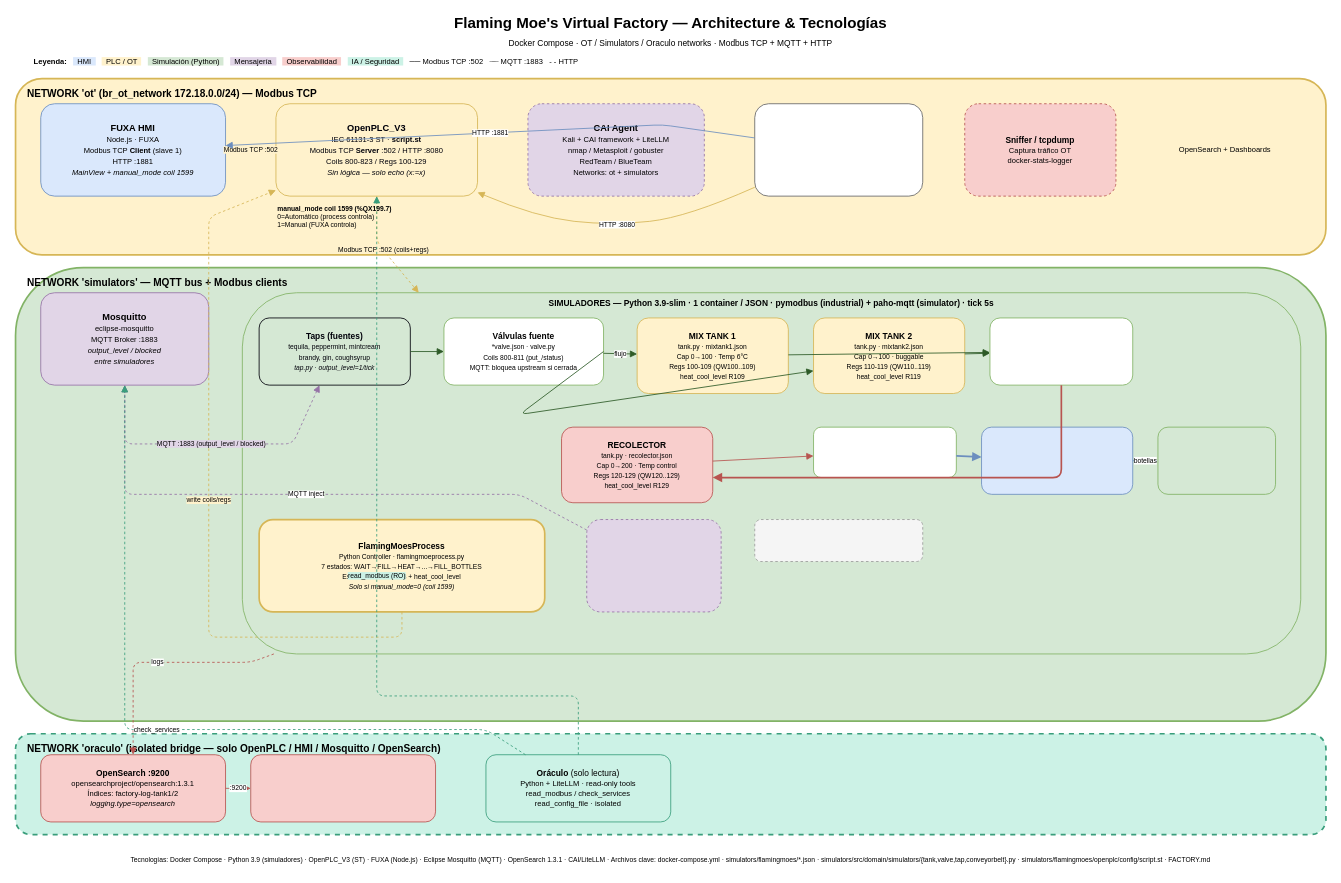
Image size: 1341x883. Some labels were removed from this diagram. Each missing label, with the centre of its shape:
"buggable-cli Python · MQTT Inyecta anomalías (anomalies.json)" goes at [653,565].
"Conveyor Belt 1 conveyorbelt.py · 7 slots Coil 818 belt1_onoff buggable" goes at [1057,460].
"docker-stats-logger + simulación logs" goes at [838,540].
"DRAIN drain.py Fin de línea (embotellado)" goes at [1216,460].
"OpenSearch Dashboards :5601" goes at [343,788].
"Operador / Estudiante Browser: FUXA :1881 OpenPLC :8080 Dashboards :5601" goes at [838,149].
"recolectorvalve valve.py · Coil 816/817" goes at [884,452].
"Válvulas tanque mixtank1valve / mixtank2valve Coils 812-815 valve.py" goes at [1061,351].
